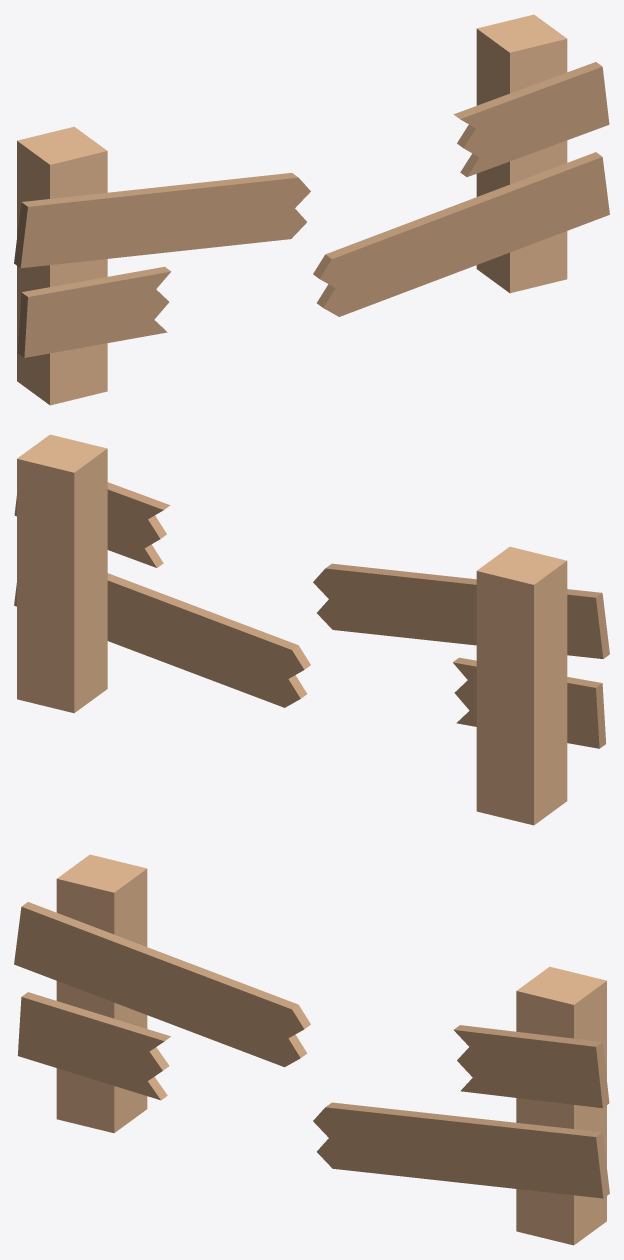
File: fenceBroken.fbx
3 views of the same model, one above another, from view 1: azimuth 30°, elevation 25°; view 2: azimuth 150°, elevation 25°; view 3: azimuth 330°, elevation 25° (orthographic).
Visible parts, largest first — view 1: fenceBroken; view 2: fenceBroken; view 3: fenceBroken.
Part boxes in pixels (x1=…): fenceBroken: x1=14, y1=14, x2=609, y2=405; fenceBroken: x1=14, y1=434, x2=609, y2=825; fenceBroken: x1=14, y1=854, x2=609, y2=1245.
Bounding box in the file's own units: 103 × 40 × 12.
